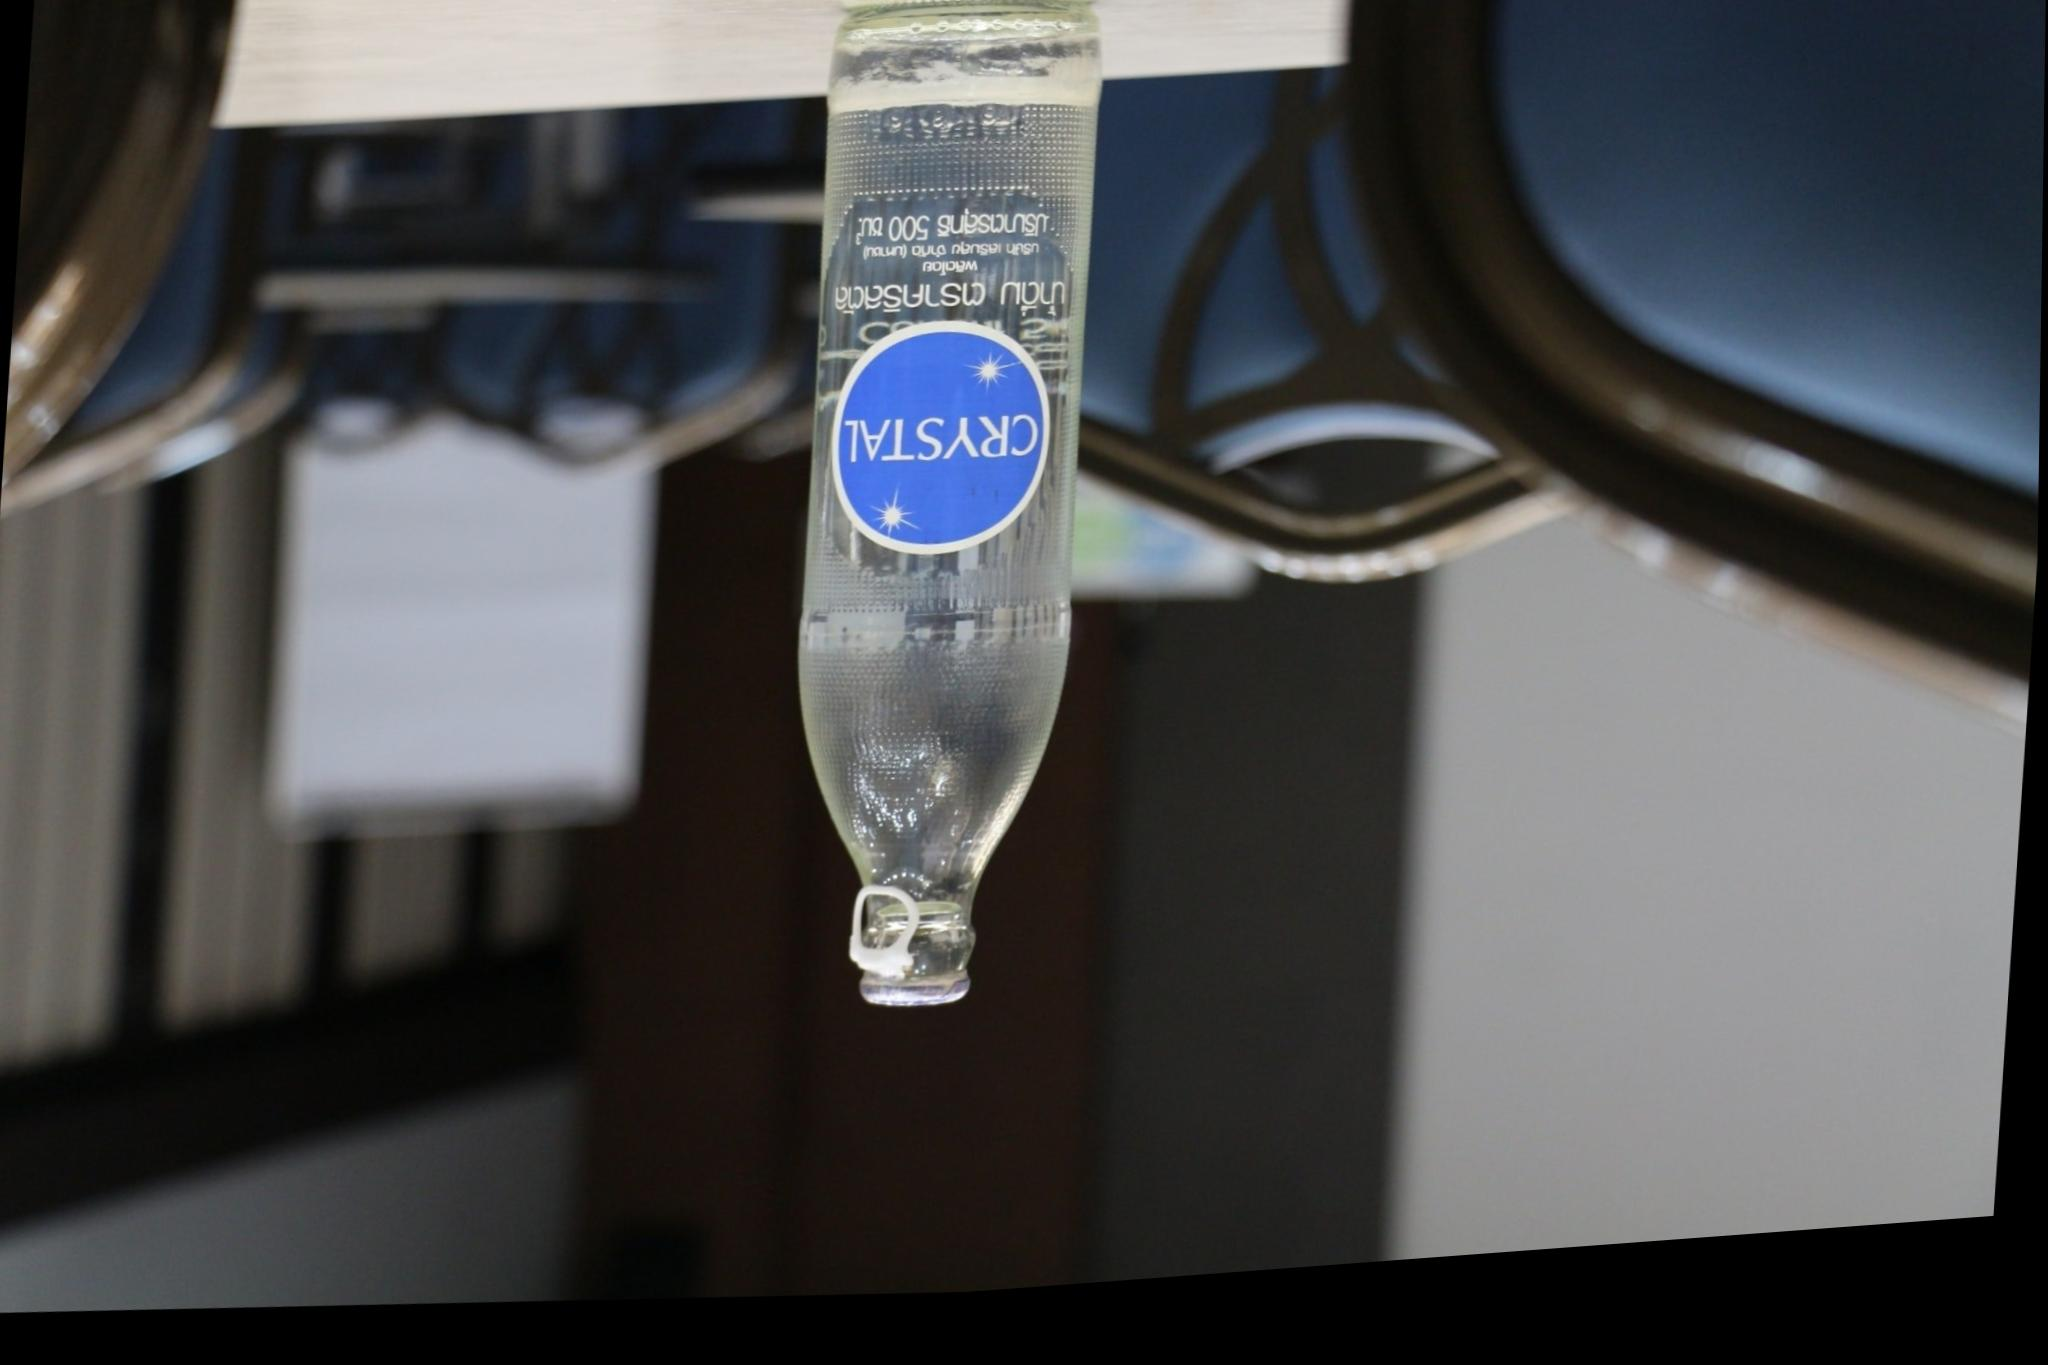glass: (799, 0, 1099, 1002)
